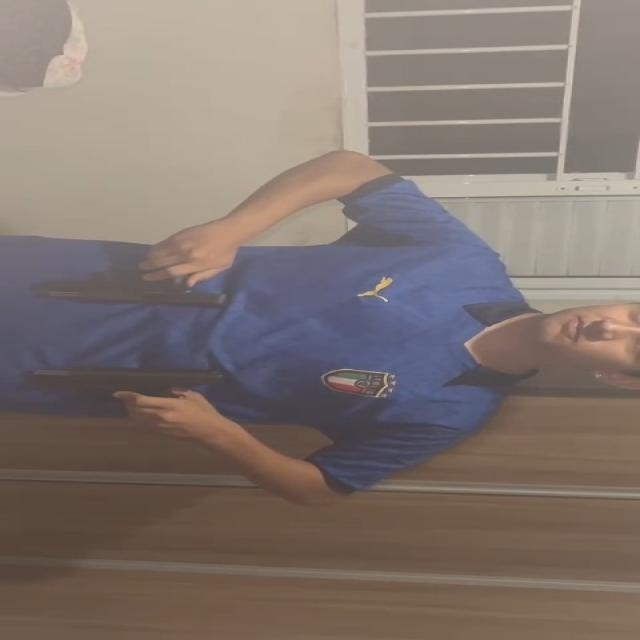guns: (23, 361, 227, 399), (47, 273, 230, 311)
